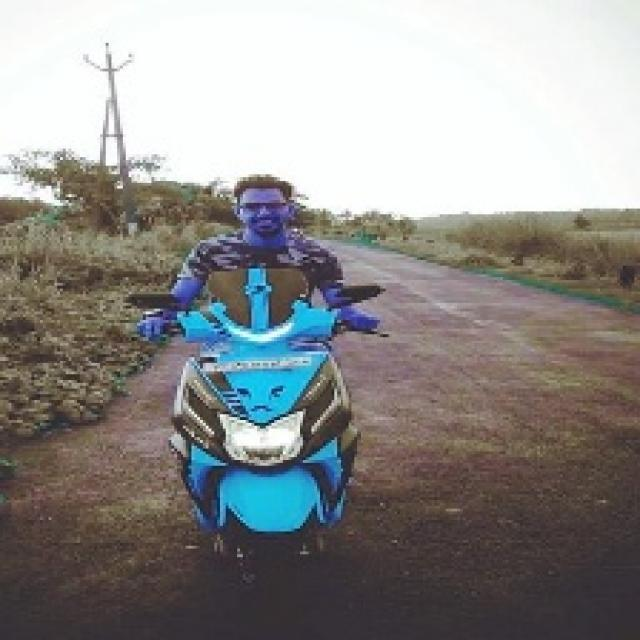bike: (180, 256, 368, 582)
